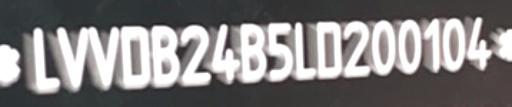letter: (176, 23, 214, 86), (118, 23, 152, 90), (55, 26, 89, 93), (87, 24, 119, 91), (29, 26, 61, 93), (149, 24, 181, 89), (264, 20, 296, 83), (210, 21, 240, 88), (238, 21, 268, 86), (341, 20, 371, 77), (314, 19, 342, 80), (440, 16, 468, 73), (290, 20, 316, 81), (466, 14, 492, 73), (396, 15, 422, 74), (370, 18, 396, 75), (421, 14, 441, 73)
